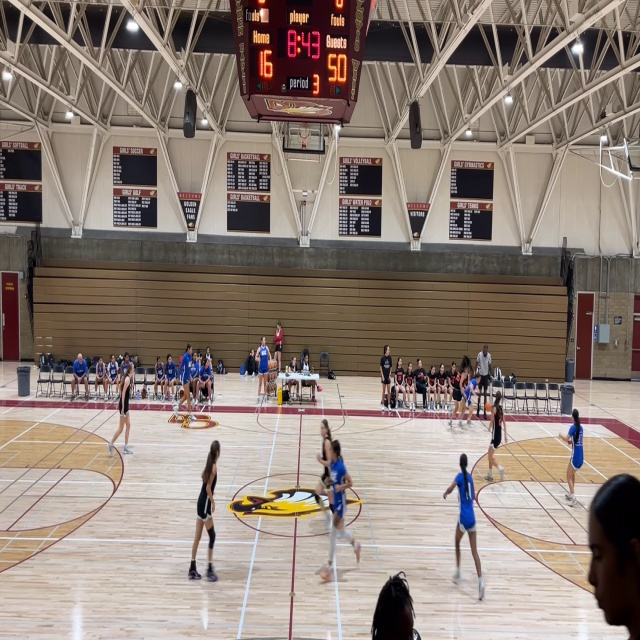Basketball: (485, 402, 491, 412)
